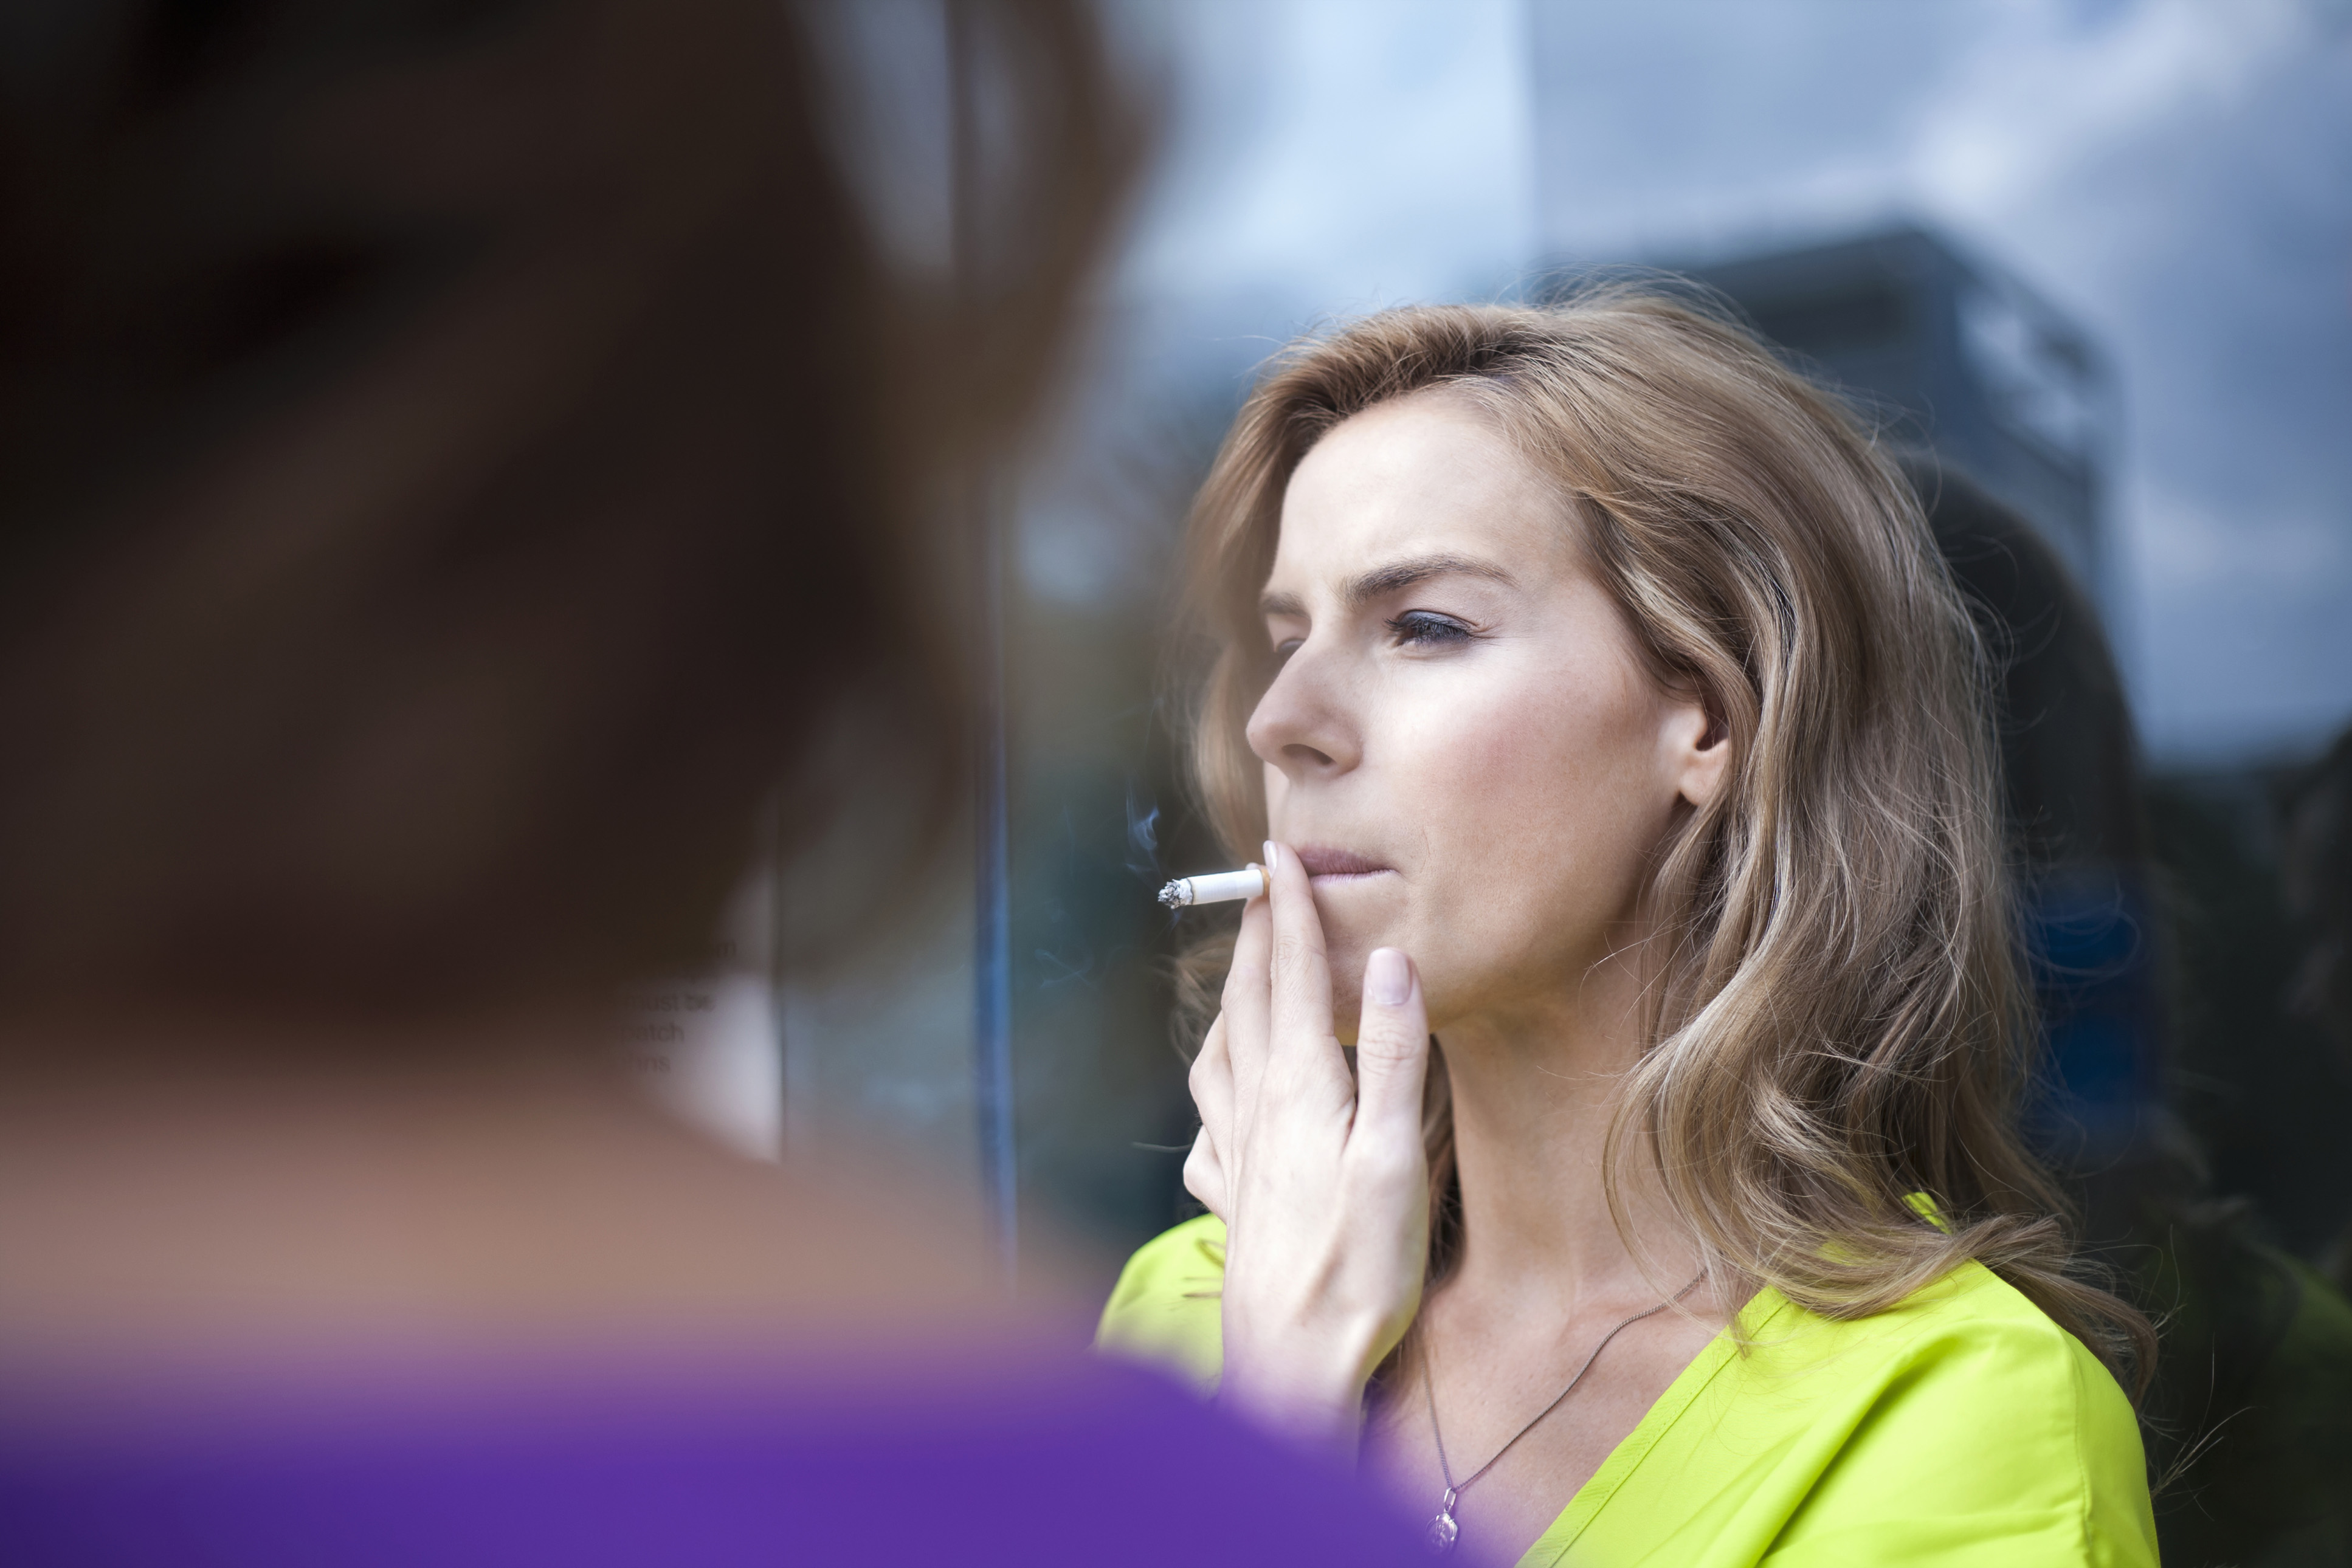cigarette: (1146, 836, 1309, 920)
